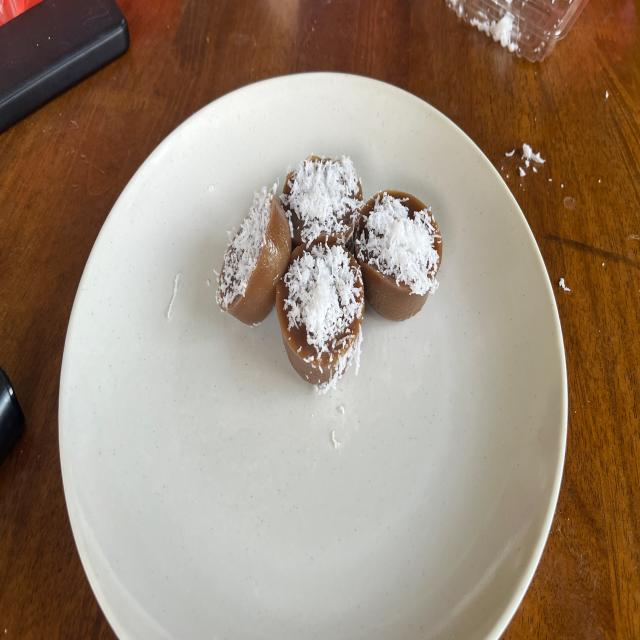Kuih lompang: (276, 231, 364, 391), (355, 191, 442, 320), (216, 184, 291, 324), (281, 156, 364, 251)
